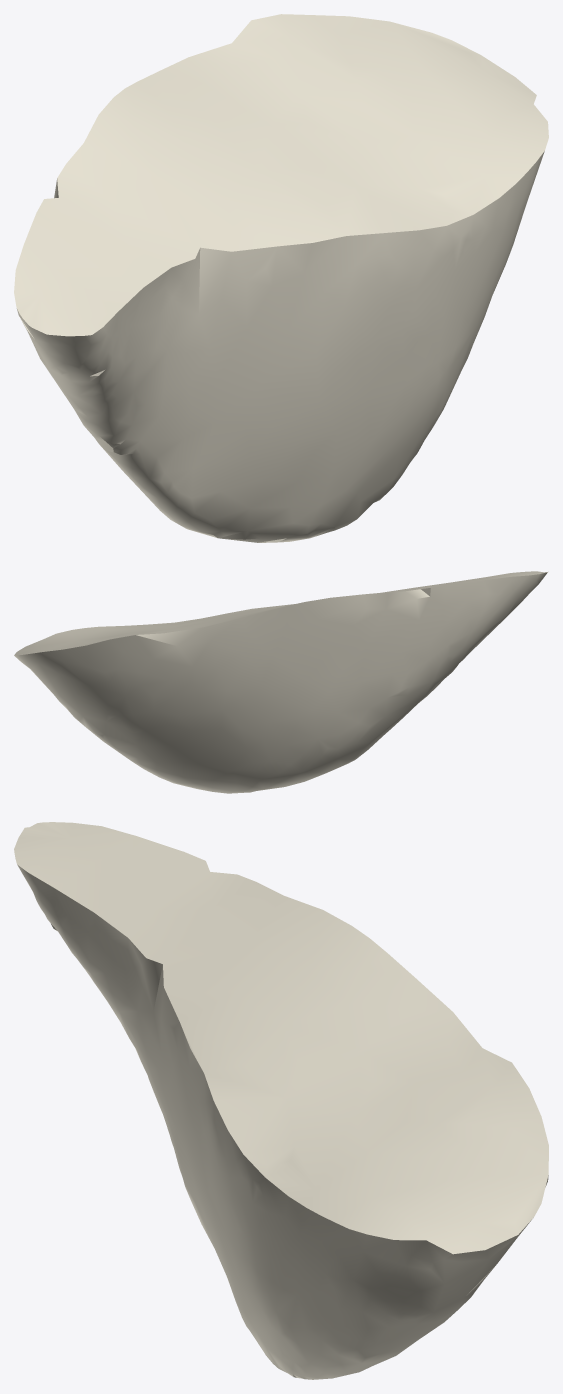
File: fma13316_mm1528m.glb
3 views of the same model, one above another, from view 1: azimuth 30°, elevation 25°; view 2: azimuth 150°, elevation 25°; view 3: azimuth 270°, elevation 25° (orthographic). The views are drawn at different scales.
Parts seen in each view (by area): view 1: FMA13316_MM1528M; view 2: FMA13316_MM1528M; view 3: FMA13316_MM1528M.
Part boxes in pixels (left/top/right/bottom): FMA13316_MM1528M: left=14, top=14, right=548, bottom=542; FMA13316_MM1528M: left=14, top=571, right=548, bottom=793; FMA13316_MM1528M: left=14, top=822, right=548, bottom=1379.
Size of the model in its own units: 0.0214 by 0.0119 by 0.0157.
